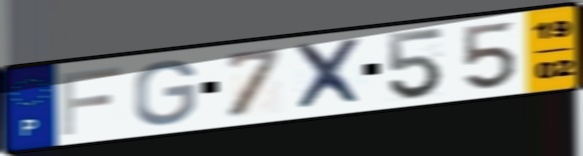5: (384, 25, 446, 102), (459, 19, 519, 90)
7: (223, 45, 285, 121)
F: (58, 64, 125, 138)
G: (131, 57, 200, 128)
X: (290, 36, 369, 114)
